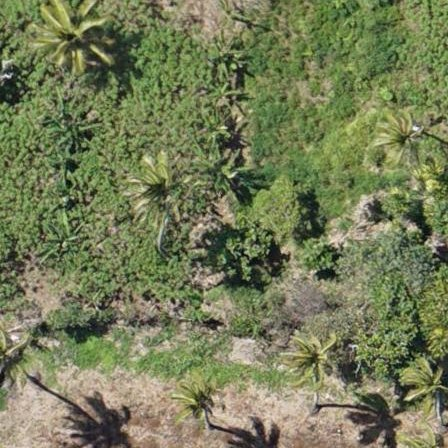palm_tree: (30, 1, 110, 79), (282, 325, 340, 386), (166, 371, 226, 427), (127, 161, 186, 215), (374, 112, 427, 169), (402, 357, 448, 419)
